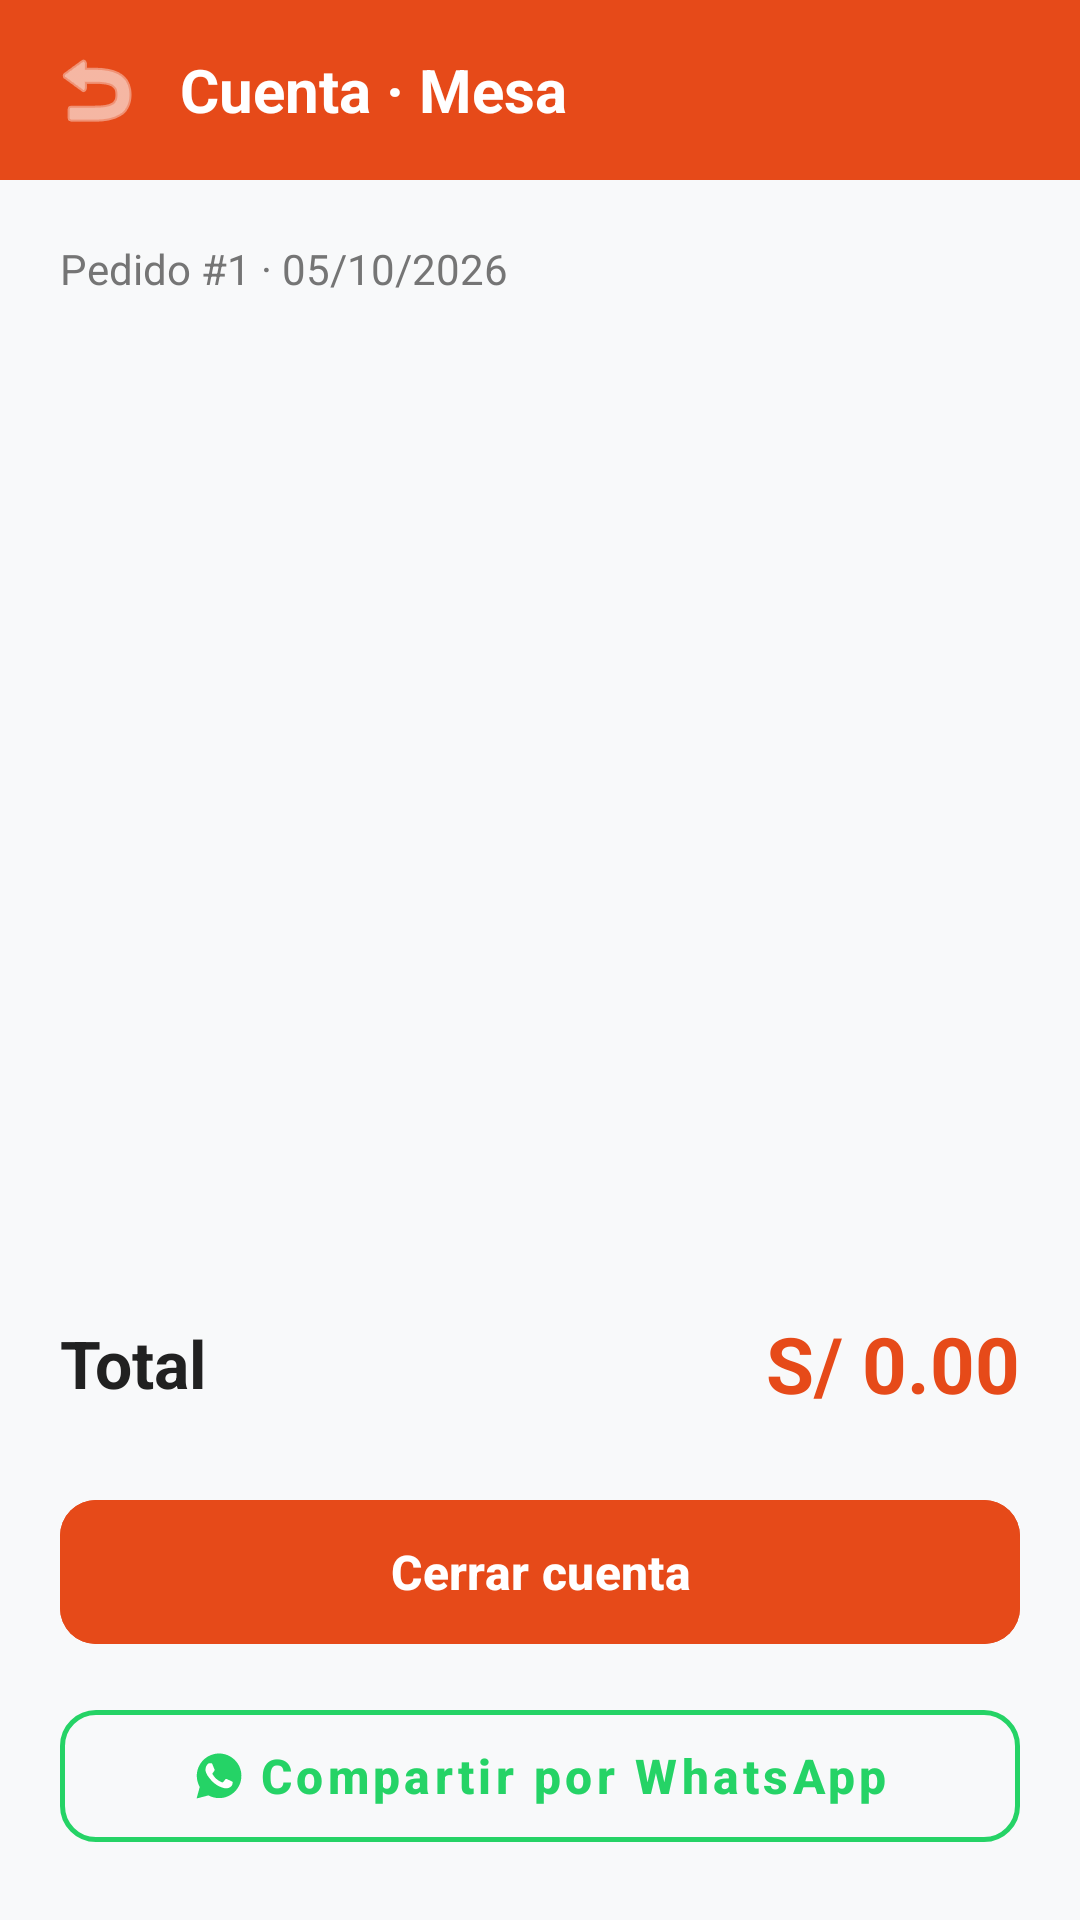

Named icons in this screenshot (1080 x 1920) and their bounding boxes, (x1, y1, x2, y2):
revert: (63, 59, 132, 122)
